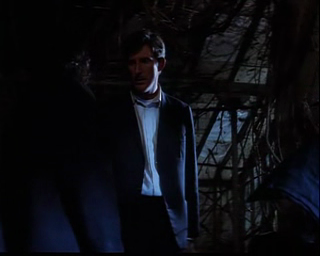face: (127, 52, 154, 93)
ms: (1, 1, 320, 256)
person: (107, 28, 201, 256)
